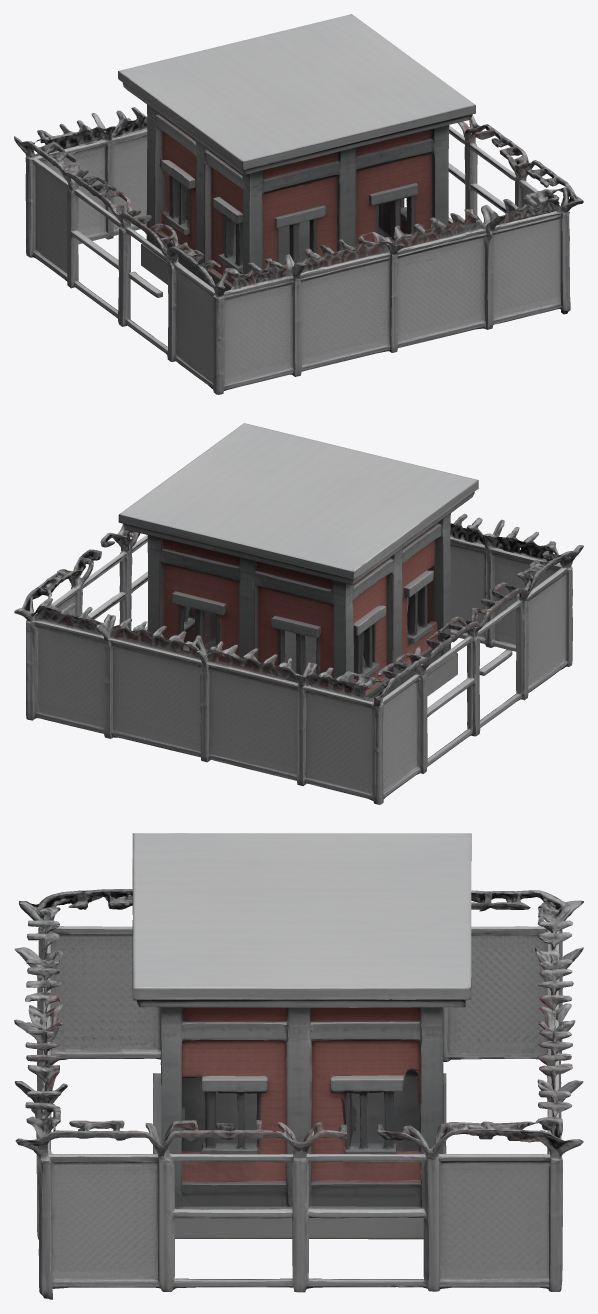
Rendered from mil2.glb.
3 renders of one model, top to bottom at view 1: azimuth 30°, elevation 25°; view 2: azimuth 150°, elevation 25°; view 3: azimuth 270°, elevation 25°, orthographic. The views are drawn at different scales.
Parts seen in each view (by area): view 1: world; view 2: world; view 3: world.
Boxes of the visible parts, x1,y1,x2,y2 form: world: [14, 14, 583, 394]; world: [14, 423, 583, 804]; world: [14, 833, 583, 1299].
Size of the model in its own units: 1 by 0.5246 by 0.9966.
1 material, 1 textured.
